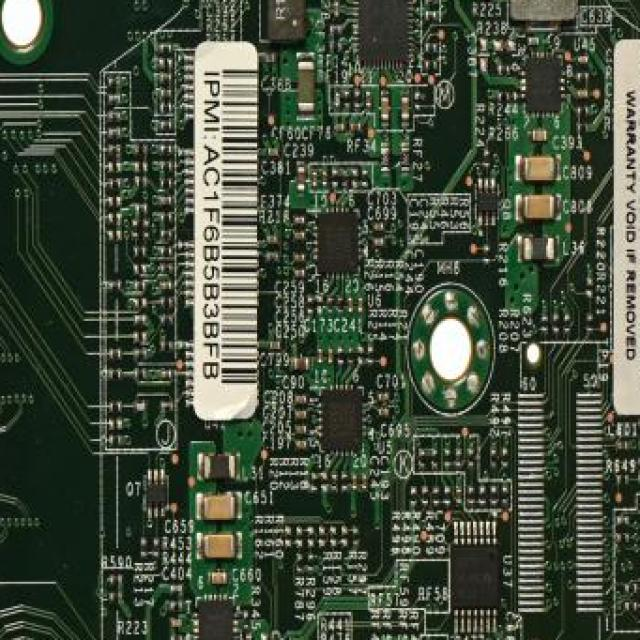IC: (449, 542, 501, 614), (357, 0, 409, 62), (316, 210, 360, 275), (526, 56, 563, 114), (197, 598, 236, 640)
capacitor: (297, 60, 317, 115), (522, 194, 556, 224), (524, 154, 558, 183), (202, 533, 236, 561), (202, 494, 236, 520), (210, 570, 228, 586), (379, 96, 390, 122), (292, 357, 310, 372), (296, 167, 306, 193), (400, 96, 410, 122), (531, 128, 549, 142), (456, 488, 464, 507), (264, 52, 276, 64), (268, 146, 280, 158), (266, 234, 278, 246), (160, 88, 172, 100), (162, 281, 174, 293), (296, 409, 308, 421), (296, 424, 308, 436), (296, 439, 308, 451), (334, 0, 342, 18), (317, 347, 325, 365), (379, 392, 391, 404), (334, 92, 342, 109), (366, 90, 373, 109), (295, 268, 306, 280), (270, 340, 282, 351), (135, 402, 147, 413), (529, 36, 541, 47), (578, 54, 589, 66), (349, 122, 361, 133), (578, 88, 589, 100), (373, 221, 385, 232), (374, 236, 386, 247), (377, 407, 389, 418), (618, 441, 630, 452), (312, 170, 319, 188), (347, 296, 354, 314), (362, 473, 369, 491), (351, 473, 358, 491), (161, 197, 172, 208), (296, 394, 307, 405), (295, 231, 306, 242), (171, 617, 182, 628), (334, 122, 345, 133), (295, 253, 305, 264), (321, 170, 327, 188), (357, 296, 363, 314), (327, 347, 333, 365), (295, 216, 305, 226), (161, 370, 172, 379)
inductor: (264, 0, 311, 41), (510, 0, 580, 23), (524, 234, 558, 264), (203, 454, 237, 482)
resistor: (379, 148, 390, 175), (400, 146, 410, 174), (131, 222, 140, 240), (332, 170, 340, 190), (482, 246, 491, 263), (563, 315, 571, 334), (160, 43, 172, 55), (160, 71, 172, 83), (424, 43, 436, 55), (330, 24, 342, 36), (330, 41, 342, 53), (160, 103, 172, 115), (135, 146, 147, 158), (109, 180, 121, 192), (135, 178, 147, 190), (343, 90, 351, 108), (484, 150, 492, 168), (362, 169, 370, 187), (135, 281, 147, 293), (109, 144, 121, 156), (160, 178, 172, 190), (160, 144, 172, 156), (160, 161, 172, 173), (162, 341, 174, 353), (135, 313, 147, 325), (109, 435, 121, 447), (162, 298, 174, 310), (162, 315, 174, 327), (347, 347, 355, 365), (109, 280, 121, 292), (266, 251, 278, 263), (143, 220, 151, 238), (501, 448, 509, 466), (501, 486, 509, 504), (469, 486, 477, 504), (456, 448, 464, 466), (467, 448, 475, 466), (411, 488, 419, 506), (422, 488, 430, 506), (330, 473, 338, 491), (242, 612, 250, 630), (617, 516, 629, 528), (587, 315, 595, 333), (169, 600, 181, 612), (111, 576, 123, 588), (152, 538, 160, 556), (353, 527, 360, 547), (141, 538, 148, 558), (420, 451, 428, 468), (355, 90, 362, 109), (541, 314, 548, 333), (552, 315, 559, 334), (499, 92, 511, 103), (426, 60, 438, 71), (160, 120, 172, 131), (135, 248, 147, 259), (109, 77, 121, 88), (109, 94, 121, 105), (135, 203, 147, 214), (109, 111, 121, 122), (109, 128, 121, 139), (162, 246, 174, 257), (162, 212, 174, 223), (162, 229, 174, 240), (162, 402, 174, 413), (135, 370, 147, 381), (135, 349, 147, 360), (109, 370, 121, 381), (109, 349, 121, 360), (109, 402, 121, 413), (627, 600, 638, 612), (576, 107, 588, 118), (576, 122, 588, 133), (171, 584, 183, 595), (111, 593, 123, 604), (342, 169, 349, 187), (308, 296, 315, 314), (338, 347, 345, 365), (338, 296, 345, 314), (327, 296, 334, 314), (368, 347, 375, 365), (312, 475, 319, 493), (490, 448, 497, 466), (490, 486, 497, 504), (479, 488, 486, 506), (432, 448, 439, 466), (434, 486, 441, 504), (445, 488, 452, 506), (342, 473, 349, 491), (297, 556, 304, 574), (426, 9, 437, 20), (625, 584, 636, 595), (578, 71, 589, 82), (499, 64, 511, 74), (617, 533, 629, 543), (617, 475, 629, 485), (443, 451, 450, 468), (308, 554, 314, 572), (426, 0, 437, 6), (173, 634, 184, 640)
transistor: (144, 482, 169, 507), (475, 189, 498, 215)
